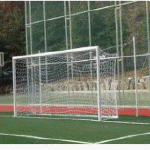goals: (11, 45, 121, 124)
